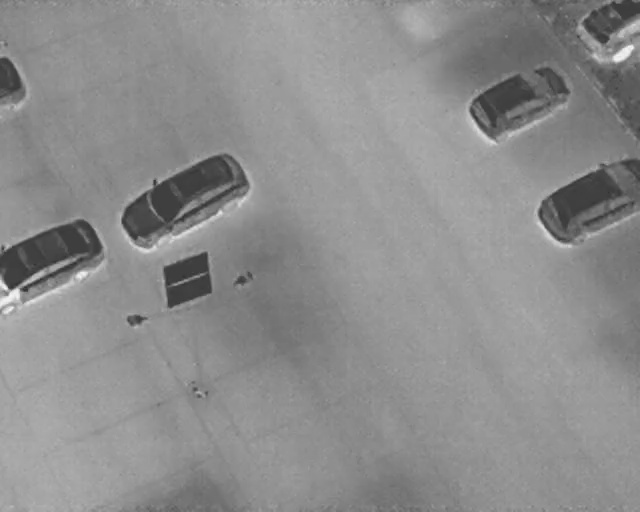Car: (104, 141, 260, 261), (460, 50, 582, 152), (0, 215, 107, 311), (534, 156, 639, 247), (573, 0, 639, 66), (0, 54, 29, 109)
